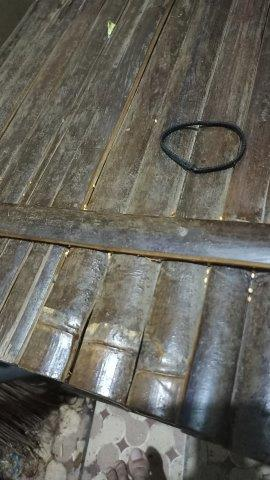karet: (160, 121, 247, 174)
